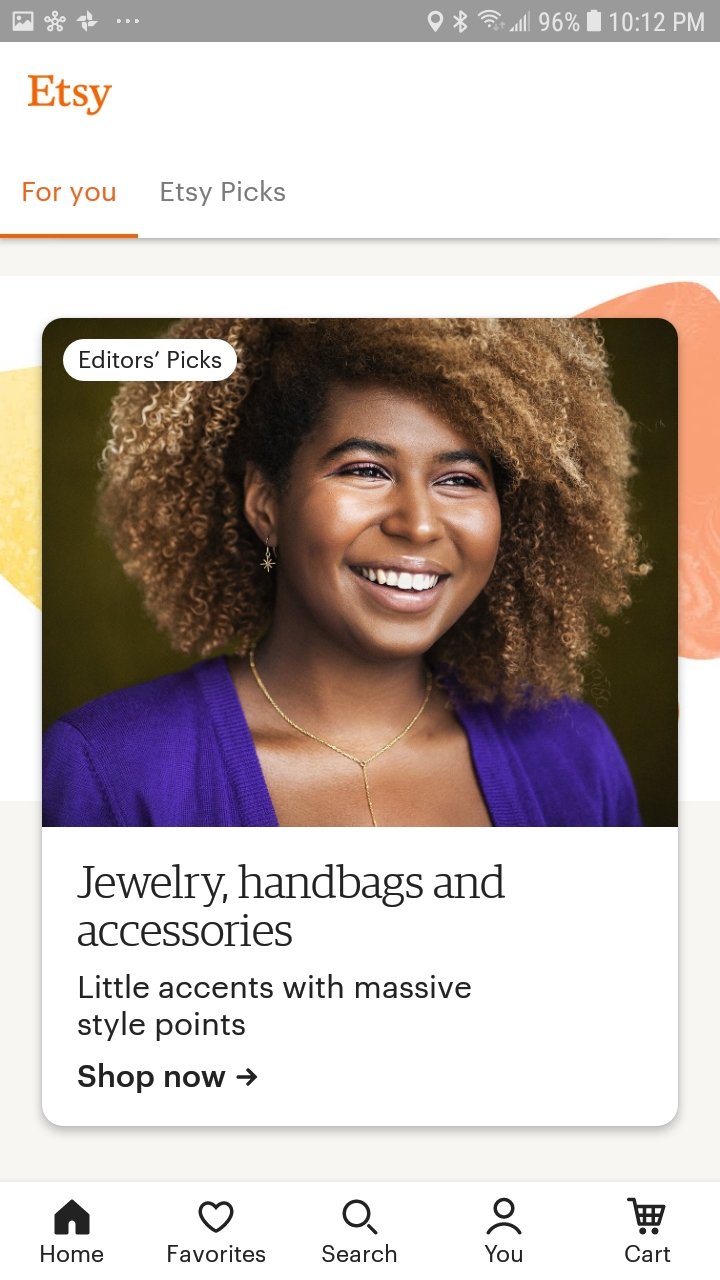Icon: (626, 1197, 666, 1235), (54, 1199, 91, 1236), (487, 1197, 523, 1235), (343, 1199, 379, 1235), (199, 1201, 235, 1233), (236, 1067, 258, 1087)
Image: (42, 317, 679, 827)
Text: (77, 864, 506, 947), (78, 973, 472, 1042), (78, 1062, 227, 1094), (28, 75, 113, 117), (161, 180, 286, 208), (23, 182, 117, 208), (168, 1244, 266, 1263), (322, 1243, 397, 1263), (41, 1244, 105, 1263), (624, 1244, 671, 1263), (484, 1244, 523, 1263)
TextButton: (64, 340, 237, 382)
UpperTaskBar: (1, 1, 720, 43)
